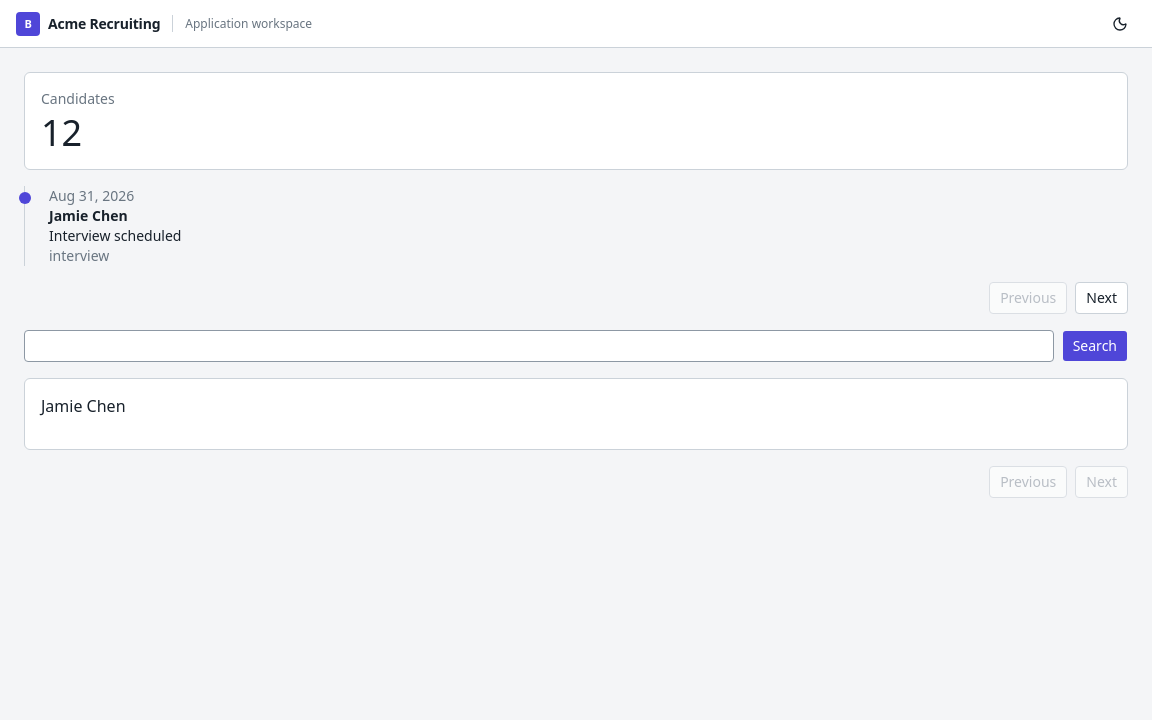
Test: public rendering › applies typed theme and renders metric timeline and declared search
expect the link "B Acme Recruiting" is shown: met, box [16, 12, 160, 36]
expect the text "12" is shown: met, box [41, 108, 82, 157]
Click the 1st button "Next": (1102, 298) [1075, 282, 1128, 314]
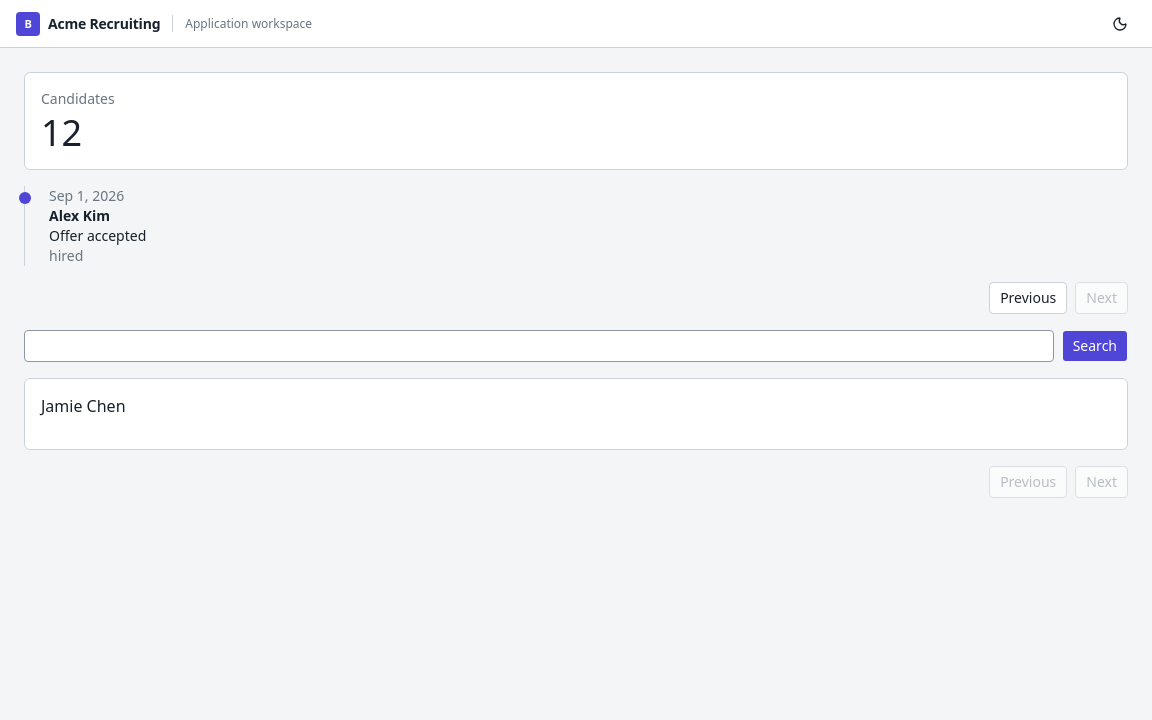
expect the text "Offer accepted" is shown: met, box [49, 226, 146, 245]
In the search field named "Search candidates": (539, 346) [24, 330, 1054, 362], type "Jane"
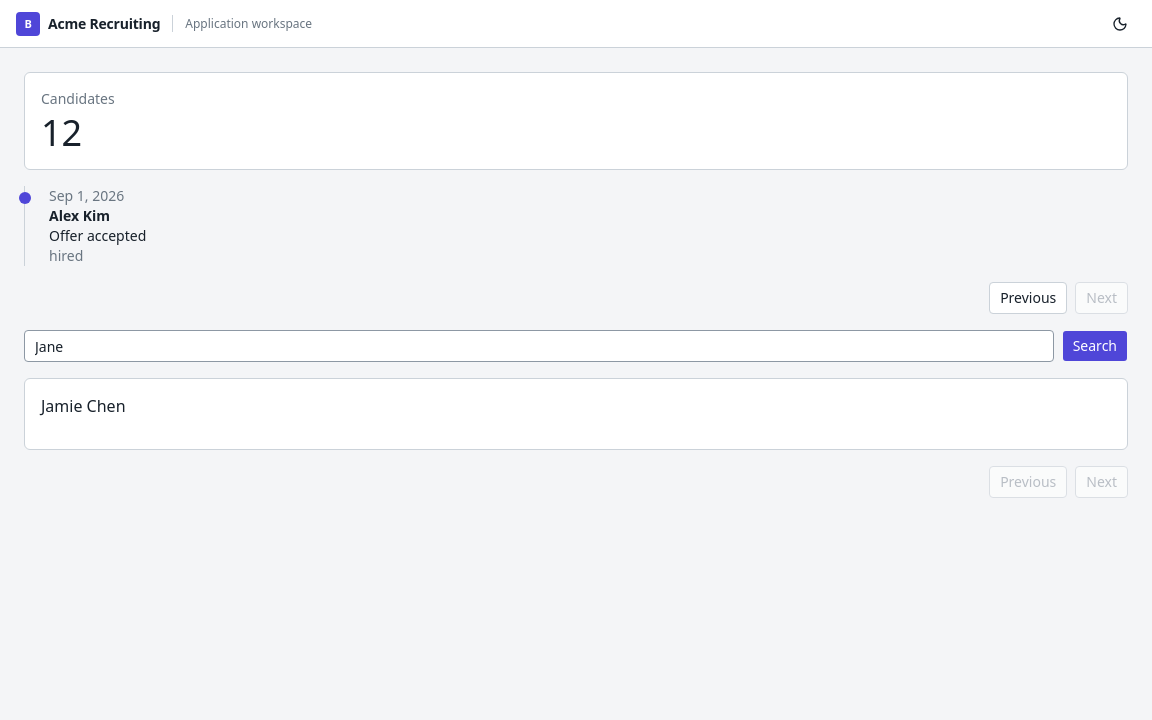
Submit the form named "Search candidates", box [24, 330, 1128, 362]
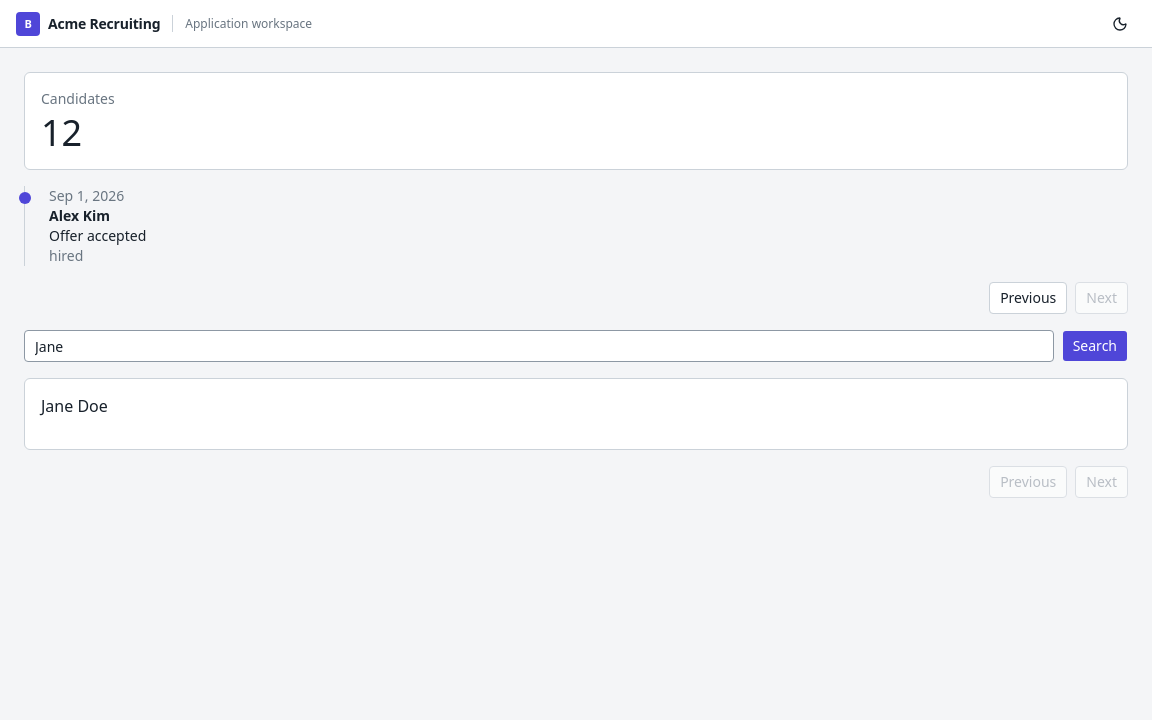
expect the heading "Jane Doe" is shown: met, box [41, 395, 108, 417]
